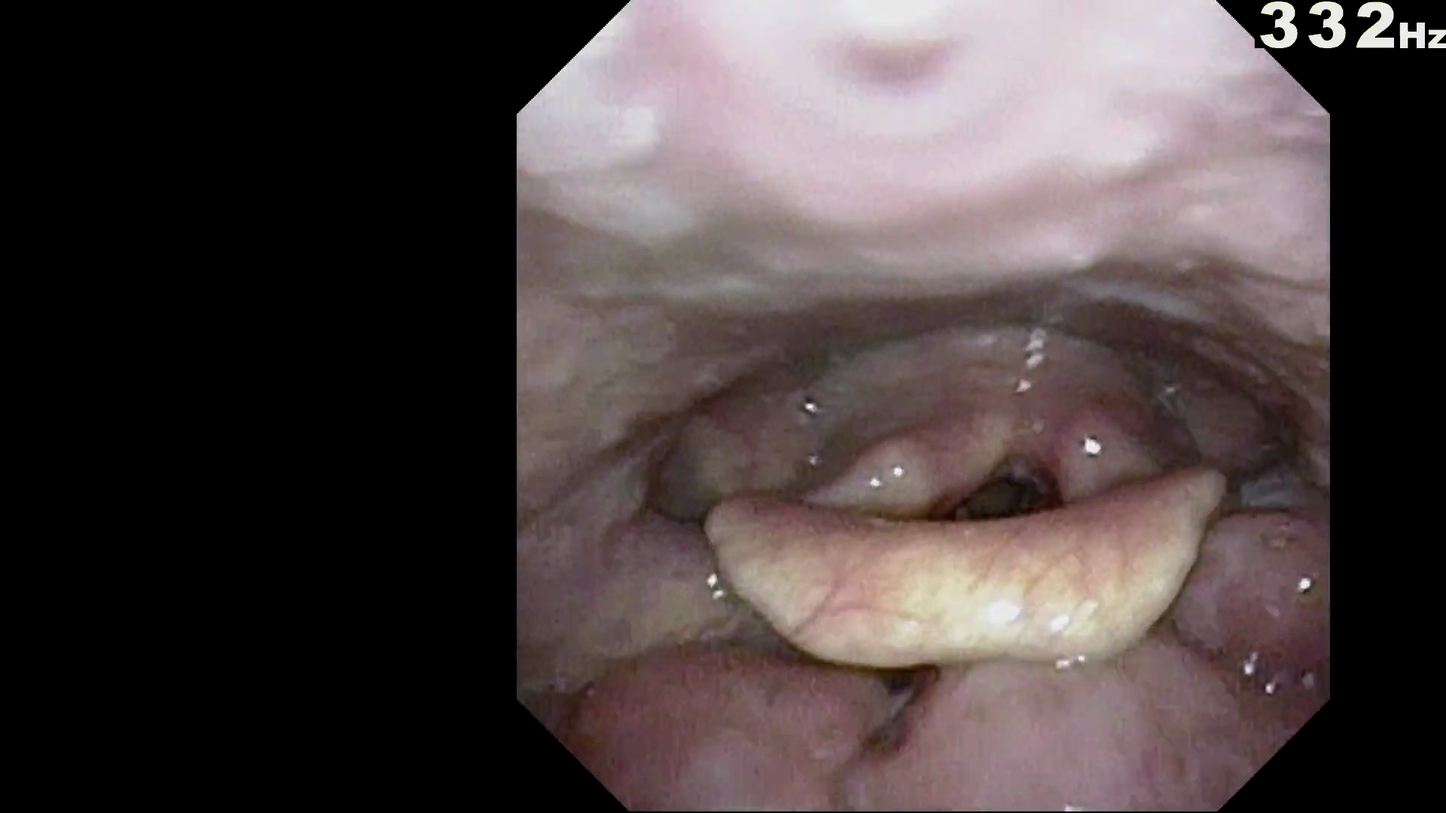epiglottis: (688, 503, 1230, 679)
trachea: (941, 453, 1059, 565)
